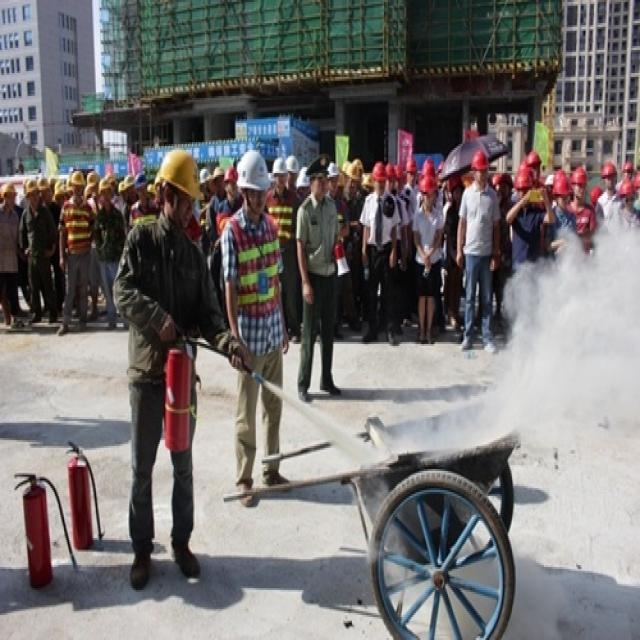Con_Casco: (153, 146, 202, 225), (235, 149, 270, 216)
Con_Chaleco: (223, 213, 281, 313)
Sin_Chaleco: (128, 226, 200, 342)
